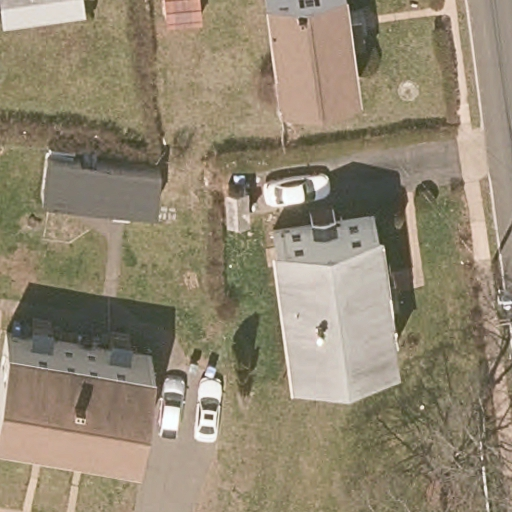DT: (488, 263, 512, 332)
